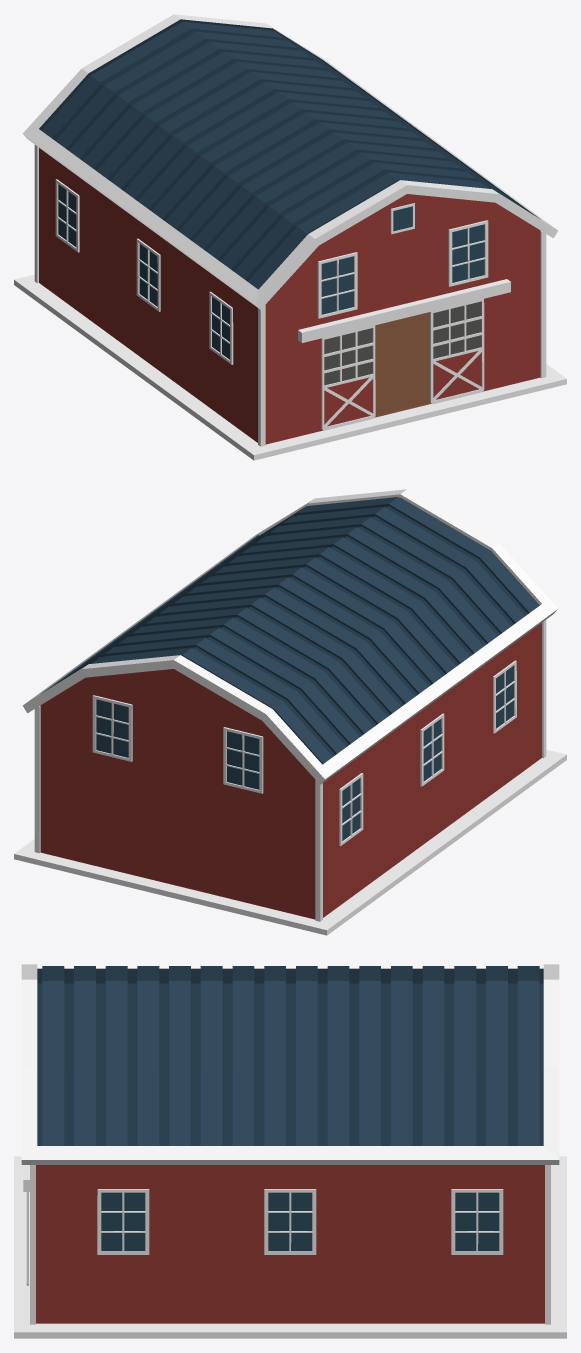
File: Barn_1.fbx
3 renders of one model, top to bottom at view 1: azimuth 30°, elevation 25°; view 2: azimuth 150°, elevation 25°; view 3: azimuth 270°, elevation 25°, orthographic. The views are drawn at different scales.
Parts seen in each view (by area): view 1: Barn_1; view 2: Barn_1; view 3: Barn_1.
Part boxes in pixels (x1,y1,x2,y2): Barn_1: (14,14,566,460); Barn_1: (14,489,566,935); Barn_1: (14,964,566,1338).
Size of the model in its own units: 693 by 497 by 920.
